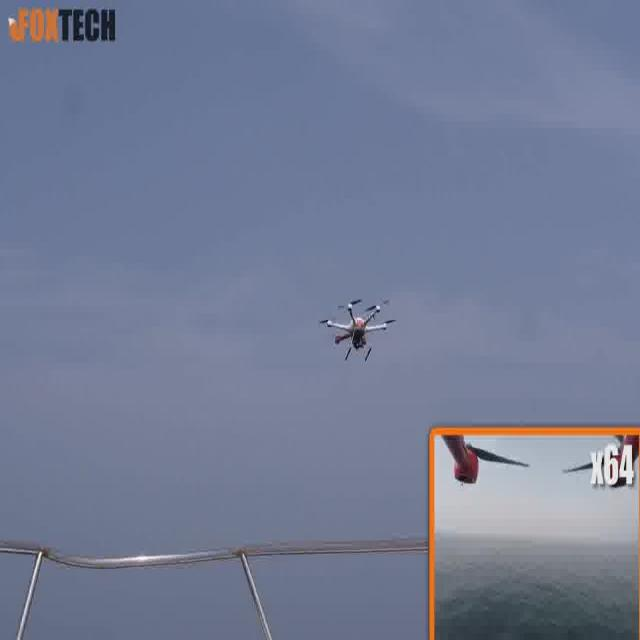Drone_FW: (317, 293, 397, 367)
